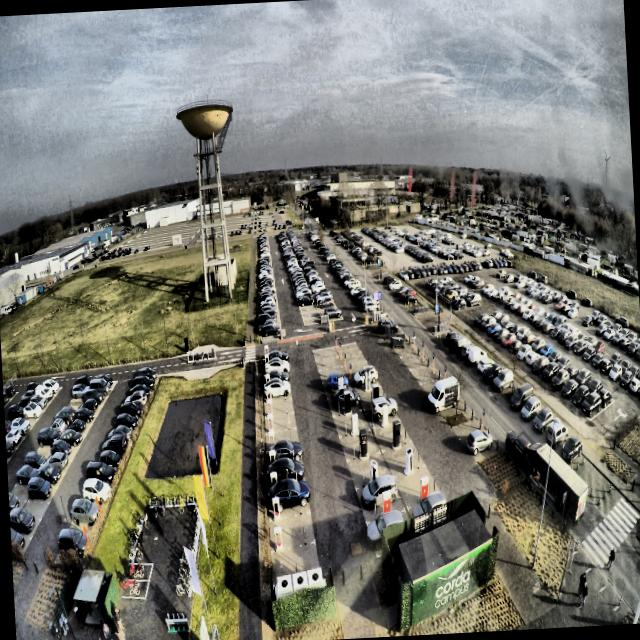cabinet: (277, 568, 324, 593)
car: (269, 478, 312, 515), (268, 457, 306, 488), (269, 439, 305, 466), (264, 378, 292, 397), (266, 357, 291, 374), (265, 369, 290, 384), (266, 350, 289, 364)
parking: (272, 541, 321, 586), (270, 511, 315, 552), (268, 485, 310, 520), (268, 466, 306, 493), (266, 445, 303, 472), (266, 428, 300, 452), (265, 414, 297, 434), (264, 384, 292, 404), (265, 399, 294, 417), (263, 370, 289, 384), (263, 360, 288, 374), (263, 351, 287, 365)
supercharger: (274, 527, 284, 551), (272, 498, 280, 520), (270, 472, 278, 489), (269, 451, 276, 468), (267, 415, 274, 431), (268, 432, 275, 447), (266, 400, 272, 413), (264, 353, 270, 365), (266, 387, 271, 399), (265, 375, 271, 385), (264, 344, 269, 355), (265, 364, 270, 374)
